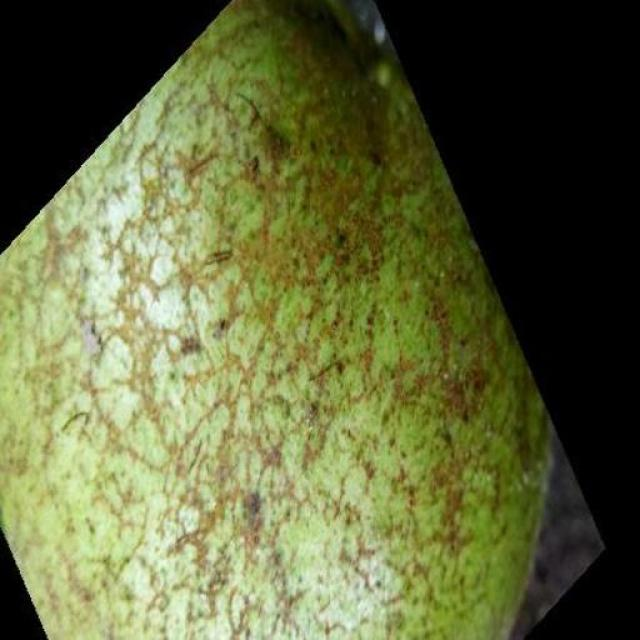Scab: (0, 0, 548, 640)
